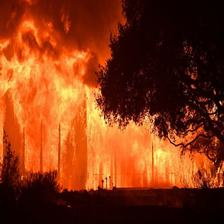fire: (3, 14, 220, 191)
